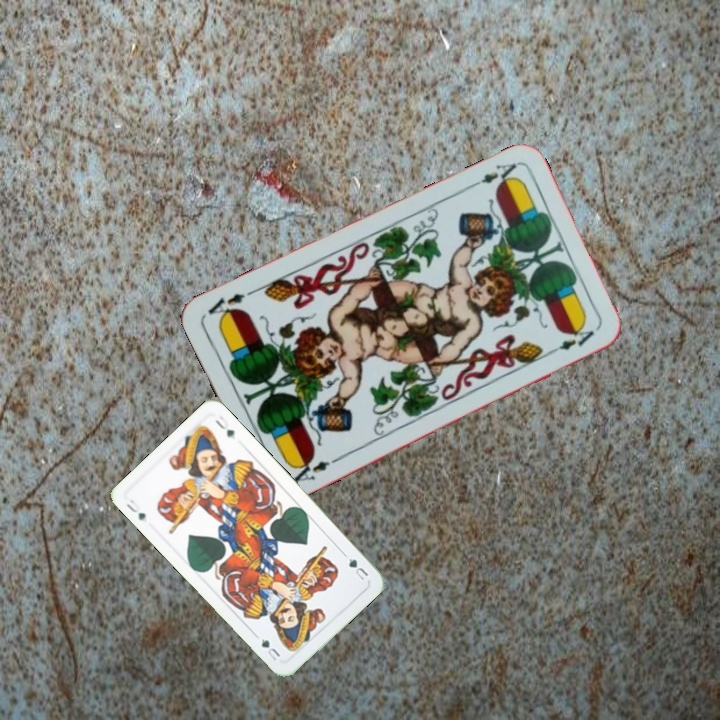EA: (284, 453, 339, 487), (465, 159, 520, 192)
GU: (345, 554, 371, 583), (122, 495, 148, 523)
